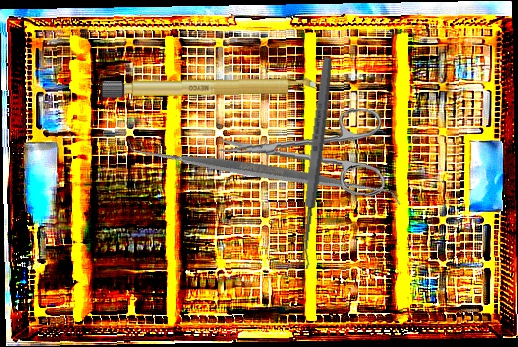Iris Scissors: (214, 99, 390, 197)
Scalpel Handle: (99, 77, 322, 99)
Spatula Surgical: (126, 35, 402, 309)
Surgical Spoon: (295, 56, 335, 270)
